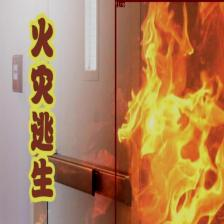fire: (114, 0, 224, 224)
